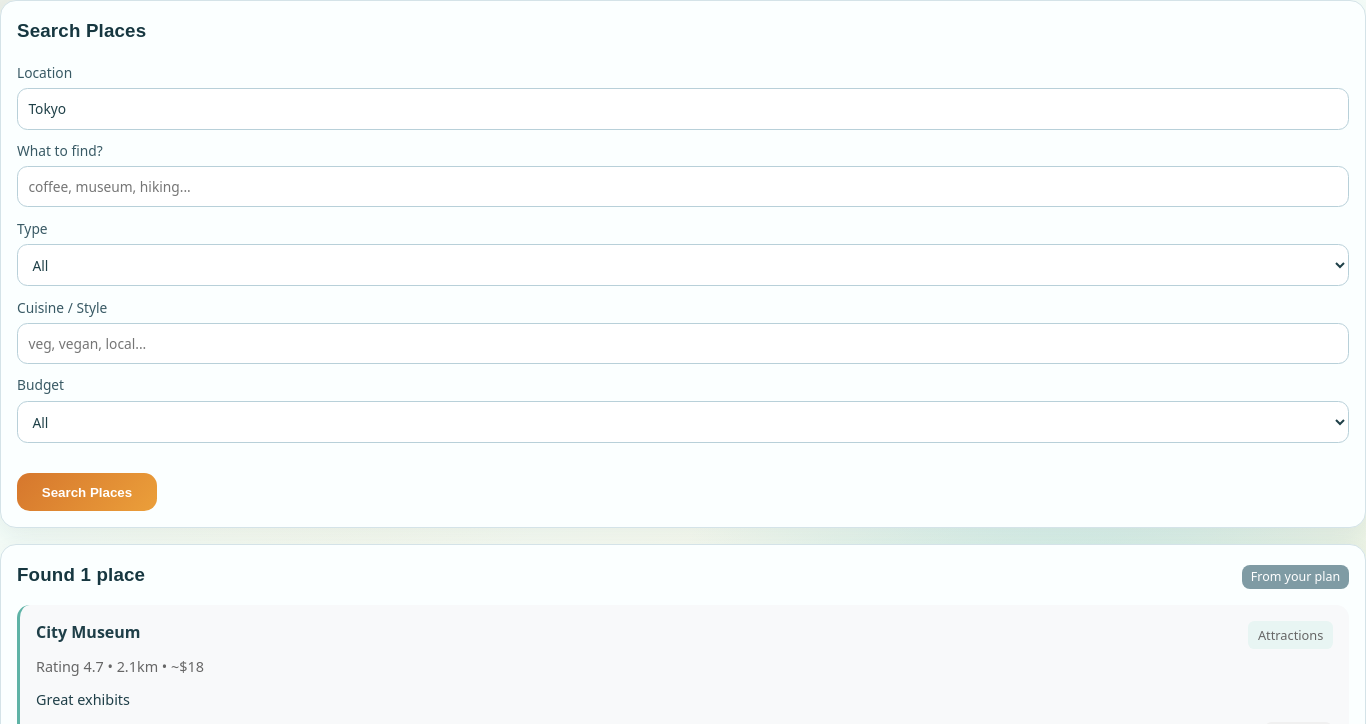
ExplorerPanel › shows an error on failed live fetch and clears it when location changes
Click the button "Search Places". click: (87, 492)
box: [17,474,157,511]
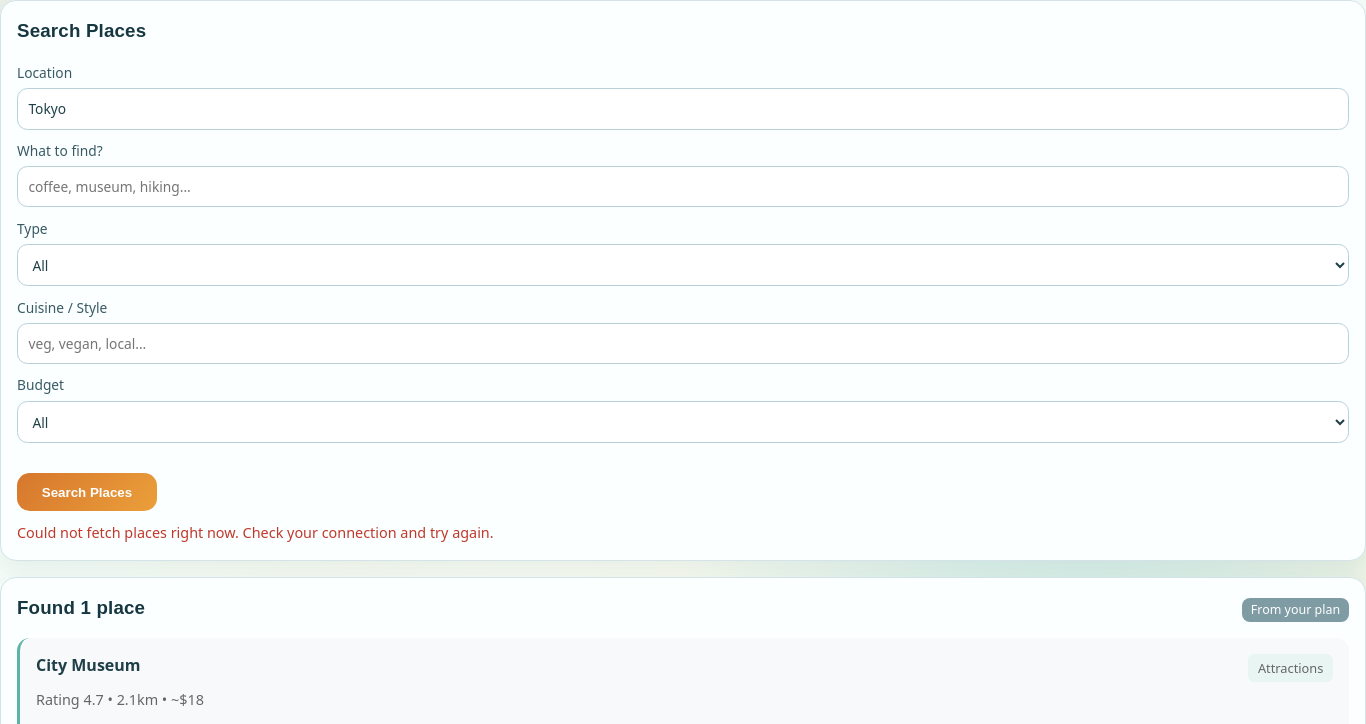
expect the text "Could not fetch places right now. Check your connection and try again." is shown: met, box [17,523,494,542]
Replace the text in the field labelled "Location" with "Kyoto". click: (683, 109)
box: [17,88,1349,130]
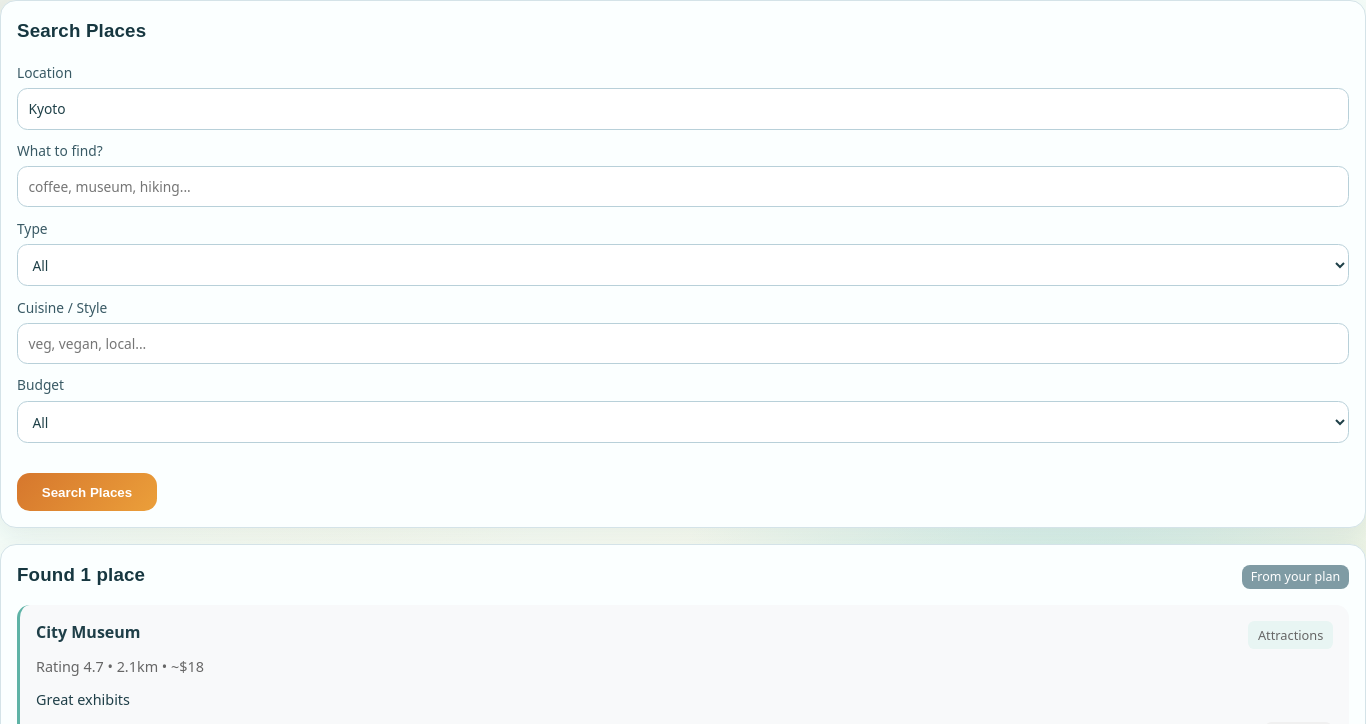
expect the text "Could not fetch places right now. Check your connection and try again." is gone: met
